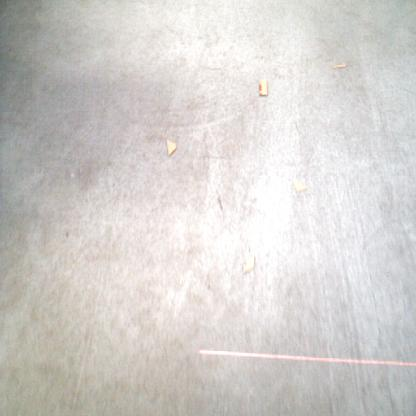dirty: (242, 255, 256, 275), (165, 138, 178, 157), (290, 180, 306, 194), (257, 78, 268, 97), (332, 62, 348, 70)
mark: (216, 196, 224, 210), (63, 229, 70, 240), (206, 283, 212, 291)
